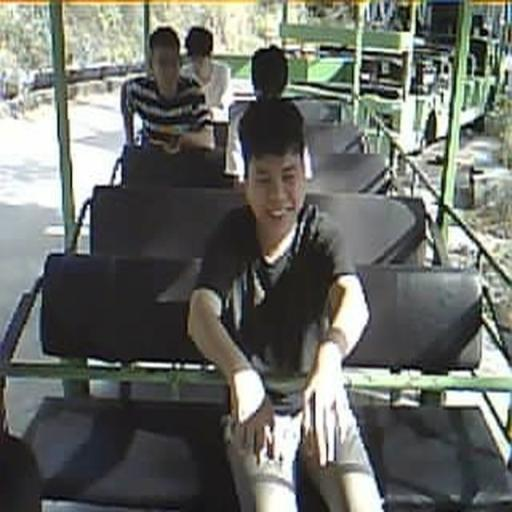persona: (186, 98, 385, 510), (223, 46, 314, 190), (119, 25, 215, 155), (180, 26, 231, 124)
